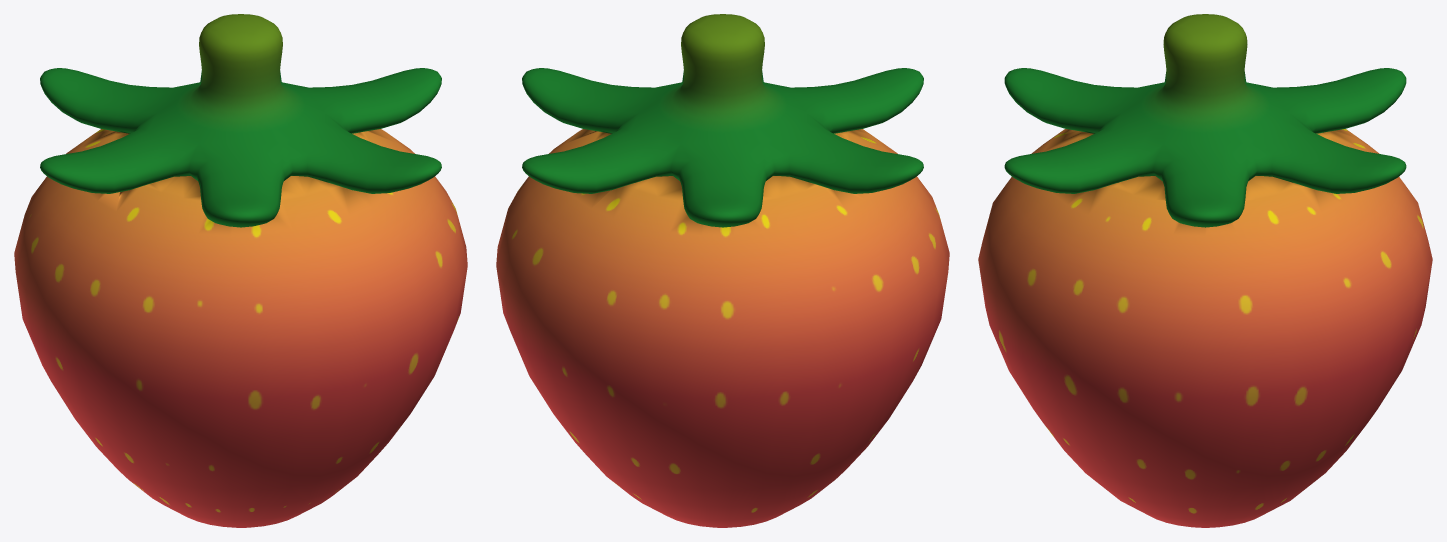
Rendered from strawberry_new2.fbx.
3 renders of one model, left to right at view 1: azimuth 30°, elevation 25°; view 2: azimuth 150°, elevation 25°; view 3: azimuth 270°, elevation 25°, orthographic.
Visible parts, largest first — view 1: 球; view 2: 球; view 3: 球.
Part boxes in pixels (x1=…): 球: x1=14, y1=14, x2=467, y2=527; 球: x1=496, y1=14, x2=949, y2=527; 球: x1=978, y1=14, x2=1432, y2=527.
Bounding box in the file's own units: 0.3492 × 0.4175 × 0.3472.
